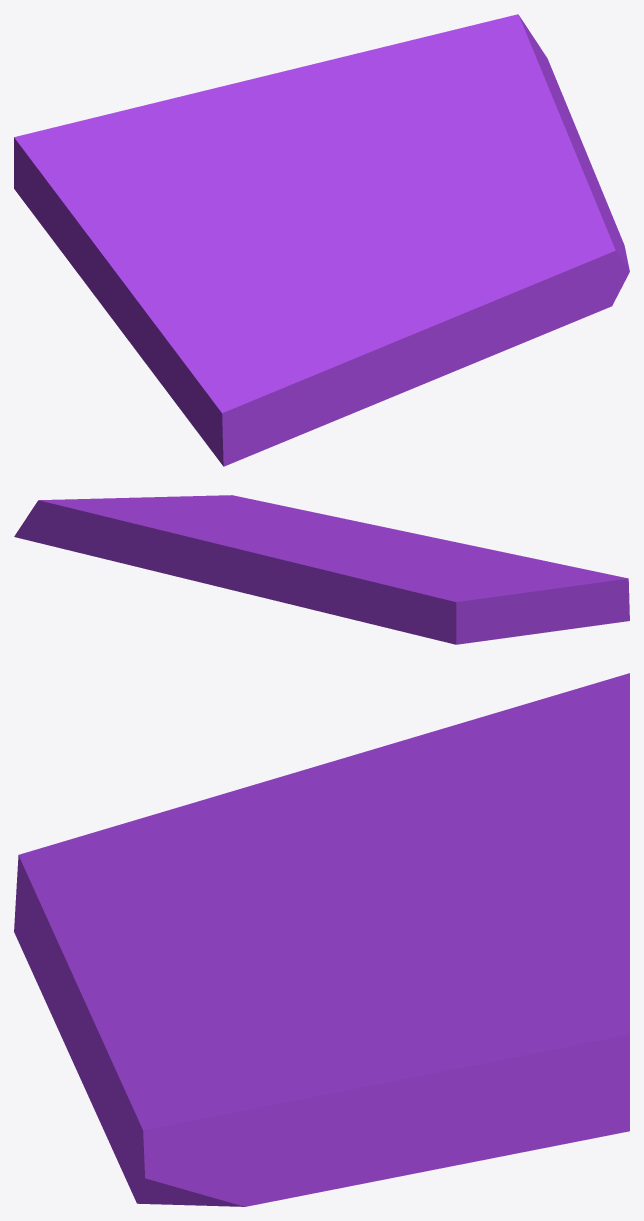
The model's file is Window_140_0_chunks.fbx.
3 renders of one model, top to bottom at view 1: azimuth 30°, elevation 25°; view 2: azimuth 150°, elevation 25°; view 3: azimuth 270°, elevation 25°, orthographic. The views are drawn at different scales.
Visible parts, largest first — view 1: Window_140_0_1, Window_140_0_17, Window_140_0_6, Window_140_0_16, Window_140_0_7, Window_140_0_9, Window_140_0_21, Window_140_0_2, Window_140_0_4, Window_140_0_5, Window_140_0_10, Window_140_0_14 (+6 smaller); view 2: Window_140_0_6, Window_140_0_1, Window_140_0_17, Window_140_0_7, Window_140_0_16, Window_140_0_14, Window_140_0_9, Window_140_0_2, Window_140_0_5, Window_140_0_4, Window_140_0_21, Window_140_0_13 (+4 smaller); view 3: Window_140_0_7, Window_140_0_1, Window_140_0_6, Window_140_0_17, Window_140_0_4, Window_140_0_9, Window_140_0_16, Window_140_0_2, Window_140_0_5, Window_140_0_21, Window_140_0_10, Window_140_0_0 (+7 smaller).
Part boxes in pixels (left/top/right/bottom): Window_140_0_1: left=67, top=88, right=360, bottom=215; Window_140_0_17: left=14, top=124, right=223, bottom=281; Window_140_0_6: left=213, top=31, right=449, bottom=168; Window_140_0_16: left=149, top=257, right=270, bottom=464; Window_140_0_7: left=449, top=14, right=599, bottom=202; Window_140_0_9: left=327, top=112, right=572, bottom=210; Window_140_0_21: left=336, top=273, right=500, bottom=406; Window_140_0_2: left=232, top=193, right=396, bottom=283; Window_140_0_4: left=509, top=193, right=629, bottom=312; Window_140_0_5: left=360, top=204, right=512, bottom=307; Window_140_0_10: left=222, top=319, right=354, bottom=466; Window_140_0_14: left=18, top=194, right=161, bottom=377; Window_140_0_6: left=95, top=514, right=310, bottom=598; Window_140_0_1: left=267, top=540, right=416, bottom=634; Window_140_0_17: left=412, top=569, right=523, bottom=644; Window_140_0_7: left=14, top=496, right=198, bottom=558; Window_140_0_16: left=445, top=562, right=629, bottom=628; Window_140_0_14: left=459, top=582, right=574, bottom=644; Window_140_0_9: left=181, top=500, right=317, bottom=544; Window_140_0_2: left=317, top=534, right=462, bottom=565; Window_140_0_5: left=245, top=512, right=436, bottom=546; Window_140_0_4: left=186, top=495, right=294, bottom=514; Window_140_0_21: left=345, top=519, right=510, bottom=553; Window_140_0_13: left=437, top=550, right=569, bottom=569; Window_140_0_7: left=260, top=985, right=629, bottom=1170; Window_140_0_1: left=366, top=711, right=629, bottom=935; Window_140_0_6: left=427, top=816, right=629, bottom=993; Window_140_0_17: left=292, top=673, right=629, bottom=840; Window_140_0_4: left=125, top=1046, right=278, bottom=1206; Window_140_0_9: left=265, top=908, right=476, bottom=1092; Window_140_0_16: left=14, top=791, right=310, bottom=926; Window_140_0_2: left=229, top=842, right=383, bottom=964; Window_140_0_5: left=152, top=947, right=303, bottom=1053; Window_140_0_21: left=51, top=935, right=172, bottom=1068; Window_140_0_10: left=14, top=876, right=138, bottom=1010; Window_140_0_0: left=225, top=1137, right=430, bottom=1206.
Bounding box in the file's own units: 1087 × 343 × 740.
